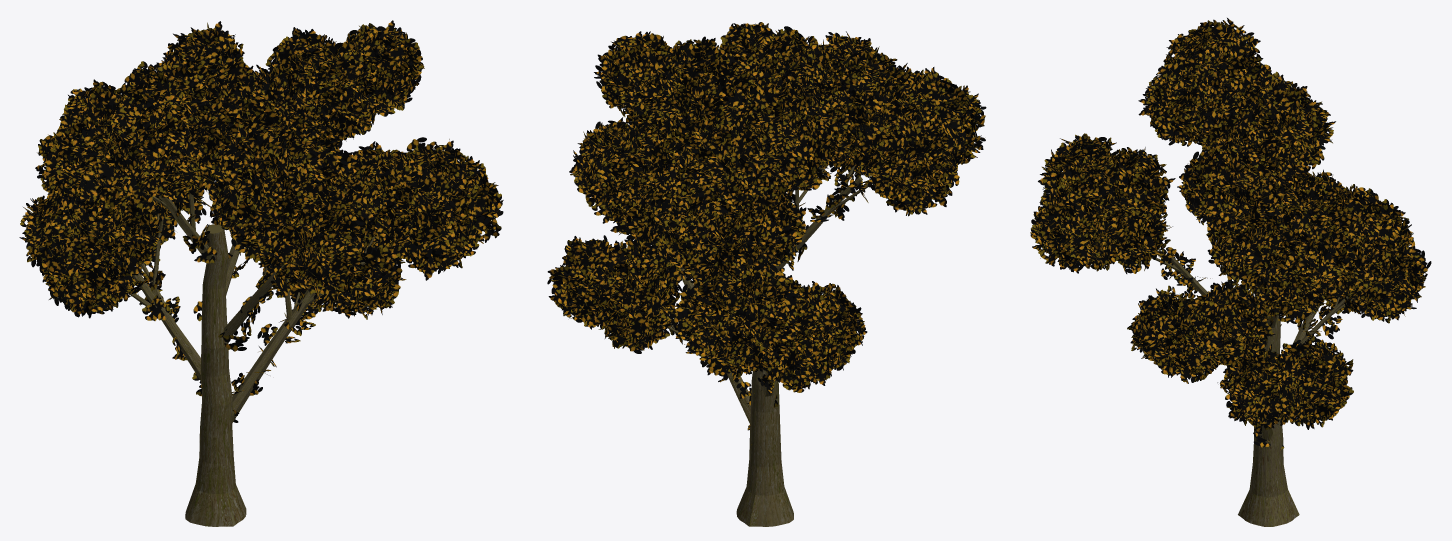
Rendered from oak_broadleaf_v03.fbx.
The picture shows the model from 3 angles, left to right: view 1: azimuth 30°, elevation 25°; view 2: azimuth 150°, elevation 25°; view 3: azimuth 270°, elevation 25°; orthographic projection. The views are drawn at different scales.
Visible parts, largest first — view 1: oak_broadleaf_v03; view 2: oak_broadleaf_v03; view 3: oak_broadleaf_v03.
Boxes of the visible parts, x1,y1,x2,y2 form: oak_broadleaf_v03: [19, 20, 503, 526]; oak_broadleaf_v03: [547, 22, 986, 526]; oak_broadleaf_v03: [1030, 18, 1431, 526].
Bounding box in the file's own units: 2279 × 2061 × 2398.
Materials: 2 (2 with a texture image).
